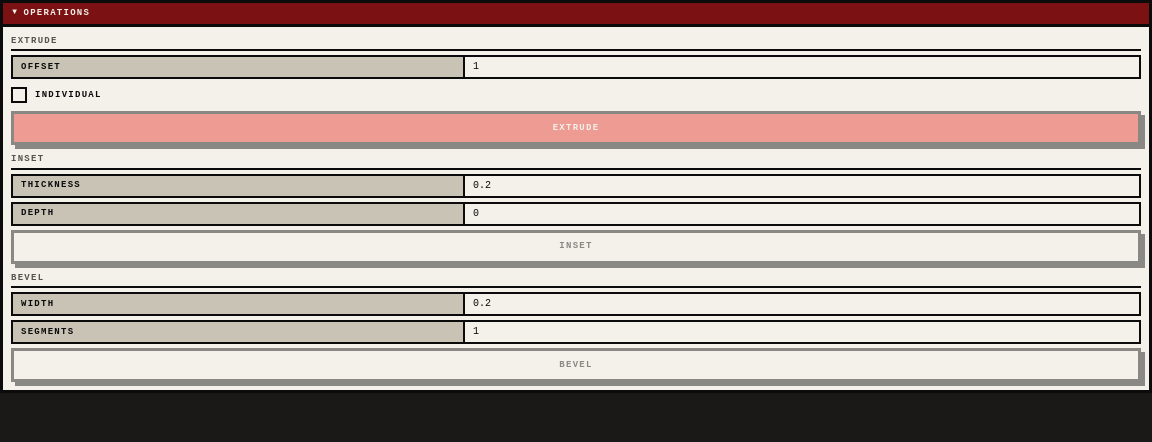
Test: OperationsPanel › still shows the hint of a disabled operation, saying what to select
Hover over the button "BEVEL" at (576, 365), box [11,348,1141,382]
Wait 1000 ms
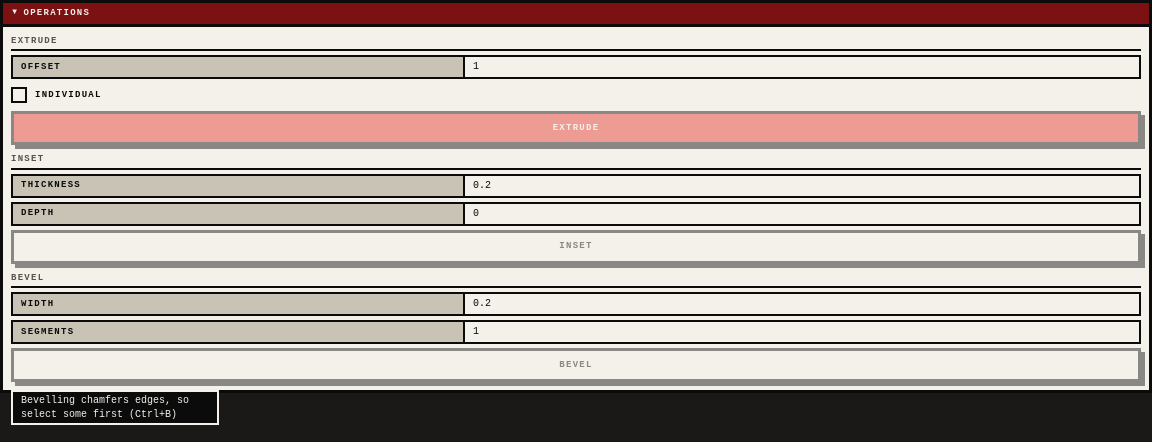
Expected: the tooltip shows "chamfers edges, so select some first", [21,395,189,420]
